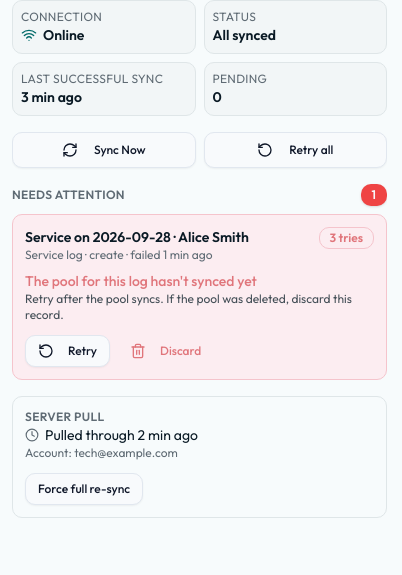
SyncHealthPanel › retries and discards individual items through the sync service
This screenshot has width=402, height=575.
Step 1. Click the button with aria-label "Retry Service on 2026-09-28 · Alice Smith" → [68, 351], box [25,335,110,367]
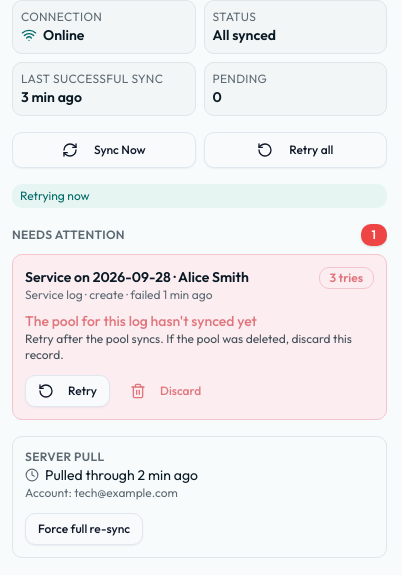
Result: the text "Retrying now" is shown at [12,184,387,208]
Step 2. Click the button with aria-label "Discard Service on 2026-09-28 · Alice Smith" → [166, 391], box [118,375,213,407]
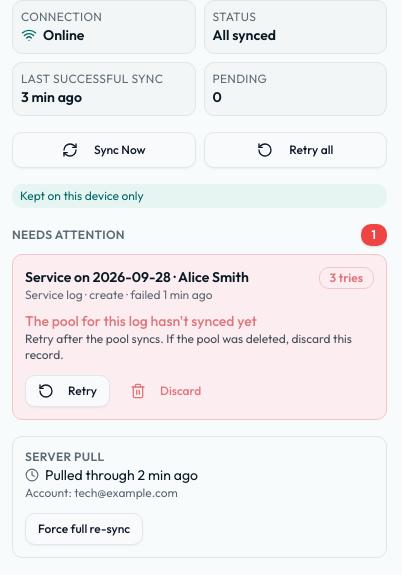
Result: the text "Kept on this device only" is shown at [12,184,387,208]
